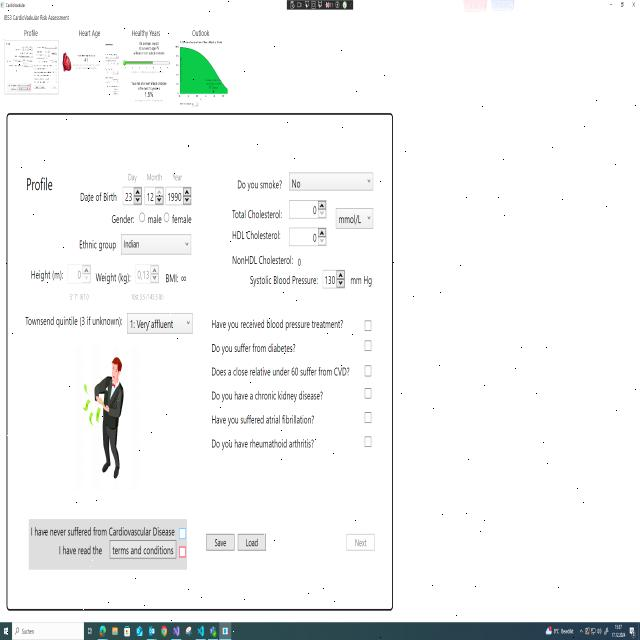button: (107, 539, 177, 563), (203, 530, 236, 554), (344, 529, 377, 553), (236, 529, 268, 553), (617, 0, 630, 13), (604, 0, 617, 12), (630, 0, 640, 13)
checkbox: (178, 525, 187, 540), (178, 545, 187, 559), (364, 363, 372, 378), (364, 410, 372, 425), (364, 318, 372, 332), (365, 385, 372, 400), (365, 434, 372, 448), (364, 340, 372, 352)
dropdownMenu: (288, 162, 377, 192), (126, 307, 196, 336), (120, 231, 194, 258), (334, 202, 376, 232), (554, 627, 583, 635)
icon: (99, 624, 106, 637), (629, 626, 636, 638), (210, 626, 217, 637), (3, 625, 9, 637), (161, 625, 167, 637), (198, 625, 204, 637), (173, 626, 180, 636), (87, 625, 93, 636), (124, 626, 130, 637), (136, 626, 142, 637), (112, 626, 118, 636), (148, 626, 154, 636), (186, 626, 192, 636), (546, 626, 552, 635), (222, 627, 228, 635), (586, 626, 590, 636), (604, 627, 609, 635), (598, 628, 602, 636), (591, 628, 595, 635)
input: (12, 621, 84, 640)
label: (208, 314, 350, 334), (209, 362, 353, 381), (29, 520, 176, 538), (208, 385, 327, 405), (23, 309, 124, 331), (209, 408, 323, 427), (210, 436, 322, 454), (207, 340, 304, 358), (247, 270, 320, 290), (228, 250, 307, 268), (230, 225, 284, 244), (229, 202, 284, 220), (56, 541, 105, 561), (233, 175, 286, 193), (76, 186, 118, 208), (76, 233, 118, 255), (23, 172, 58, 198), (2, 11, 70, 24), (26, 264, 66, 286), (93, 268, 133, 288), (164, 266, 195, 288), (349, 272, 378, 294), (128, 290, 168, 304), (74, 22, 104, 38), (128, 26, 164, 39), (110, 210, 137, 227), (171, 210, 196, 228), (66, 289, 93, 303), (145, 165, 164, 184), (124, 163, 139, 184), (187, 27, 213, 38), (146, 212, 162, 229), (171, 165, 184, 182), (20, 27, 39, 38)
menu: (1, 620, 640, 640)
radio: (138, 210, 145, 225), (163, 210, 170, 224)
upDown: (288, 194, 328, 222), (288, 223, 328, 248), (321, 266, 347, 294), (135, 261, 161, 287), (67, 261, 92, 286), (165, 185, 192, 205), (121, 184, 143, 208), (144, 184, 164, 206)
